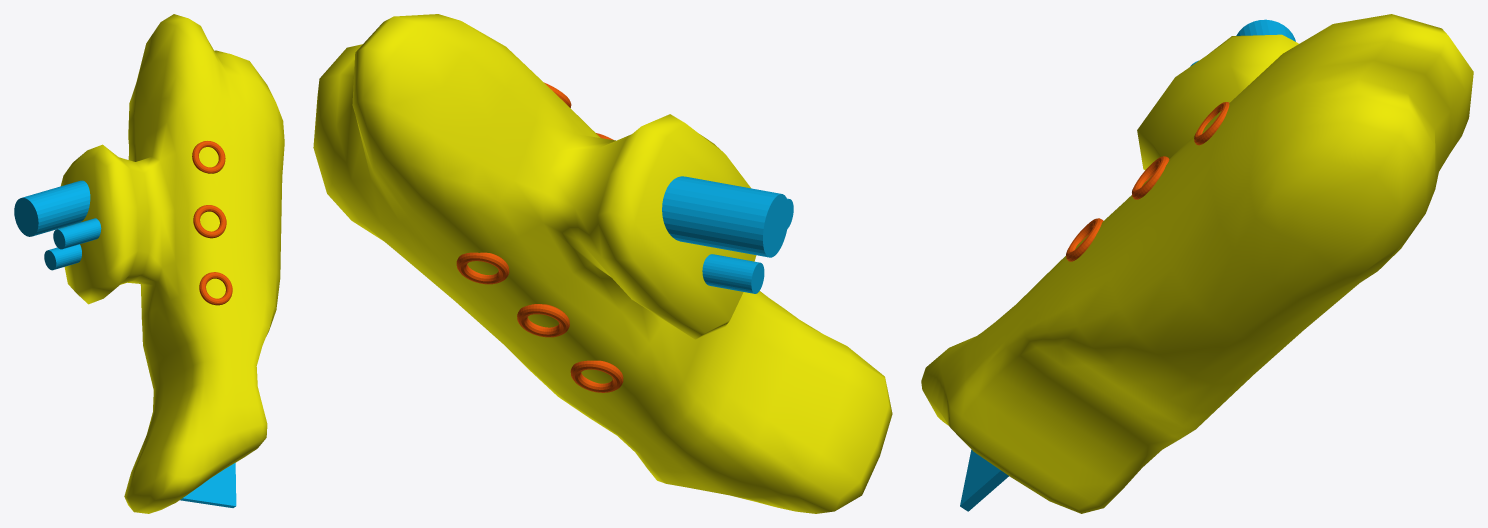
The model's file is ubaadanim.fbx.
The picture shows the model from 3 angles, left to right: view 1: azimuth 30°, elevation 25°; view 2: azimuth 150°, elevation 25°; view 3: azimuth 270°, elevation 25°; orthographic projection. The views are drawn at different scales.
Parts seen in each view (by area): view 1: Cube.004; view 2: Cube.004; view 3: Cube.004.
Boxes of the visible parts, x1,y1,x2,y2 form: Cube.004: (14, 14, 284, 513); Cube.004: (313, 14, 892, 513); Cube.004: (921, 14, 1473, 513).
Size of the model in its own units: 5.68 by 7.48 by 6.63.
